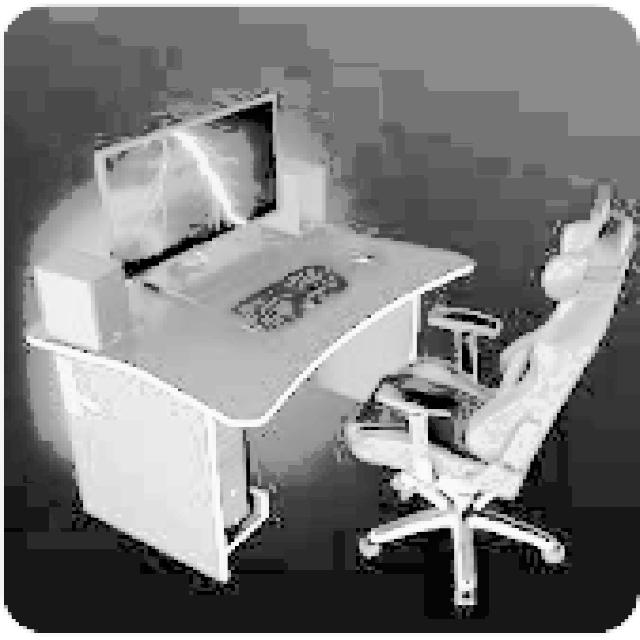book: (345, 192, 636, 605)
table: (23, 210, 473, 580)
